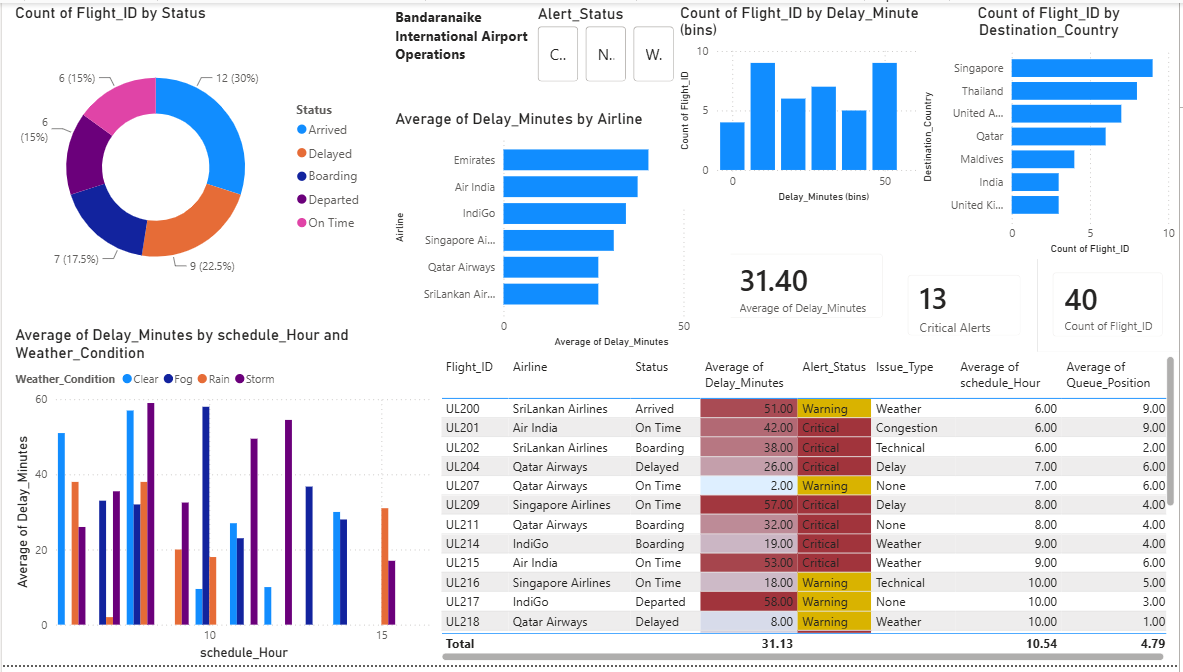

This screenshot's page, from the dashboard's own definition file:
{"tool":"powerbi","page":{"name":"Page 1","canvas":[1280,720],"ordinal":0},"visuals":[{"type":"donutChart","fields":{"Category":["BIA_CMB_Dataset.Status"],"Y":["CountNonNull(BIA_CMB_Dataset.Flight_ID)"]},"box":[9.4,0,393.5,338.3],"z":0},{"type":"cardVisual","fields":{"Data":["CountNonNull(BIA_CMB_Dataset.Flight_ID)"]},"box":[1125.3,275.9,154.9,104.7],"z":1000},{"type":"cardVisual","fields":{"Data":["Avg(BIA_CMB_Dataset.Delay_Minutes)"]},"box":[772,255.5,203.9,104.7],"z":2000},{"type":"cardVisual","fields":{"Data":["BIA_CMB_Dataset.Critical Alerts"]},"box":[967.7,278.6,157.7,100.6],"z":3000},{"type":"clusteredBarChart","fields":{"Category":["BIA_CMB_Dataset.Airline"],"Y":["Avg(BIA_CMB_Dataset.Delay_Minutes)"]},"box":[422.7,115.5,369.7,263.7],"z":4000},{"type":"columnChart","fields":{"Category":["BIA_CMB_Dataset.Delay_Minutes (bins)"],"Y":["CountNonNull(BIA_CMB_Dataset.Flight_ID)"]},"box":[732.6,0,281.3,221.5],"z":5000},{"type":"clusteredColumnChart","fields":{"Category":["BIA_CMB_Dataset.schedule_Hour"],"Y":["Avg(BIA_CMB_Dataset.Delay_Minutes)"],"Series":["BIA_CMB_Dataset.Weather_Condition"]},"box":[9.4,350.4,462.2,369.3],"z":6000},{"type":"tableEx","fields":{"Values":["BIA_CMB_Dataset.Flight_ID","BIA_CMB_Dataset.Airline","BIA_CMB_Dataset.Status","Avg(BIA_CMB_Dataset.Delay_Minutes)","BIA_CMB_Dataset.Alert_Status","BIA_CMB_Dataset.Issue_Type","Avg(BIA_CMB_Dataset.schedule_Hour)","Avg(BIA_CMB_Dataset.Queue_Position)"]},"box":[471.7,378.7,808.6,341],"z":7000},{"type":"clusteredBarChart","fields":{"Category":["BIA_CMB_Dataset.Destination_Country"],"Y":["CountNonNull(BIA_CMB_Dataset.Flight_ID)"]},"box":[996.2,0,284.1,278.6],"z":8000},{"type":"textbox","box":[422.7,0,154.9,91.1],"z":9000},{"type":"advancedSlicerVisual","fields":{"Values":["BIA_CMB_Dataset.Alert_Status"]},"box":[577.6,1.4,159,89.7],"z":10000}]}

Visuals, with their boxes in screenshot pixels (x1, y1, x2, y2), scaled from the page's 1280x720 canvas onto the 1183x672 screenshot:
donutChart - BIA_CMB_Dataset.Status x CountNonNull(BIA_CMB_Dataset.Flight_ID): <bbox>9, 0, 372, 316</bbox>
cardVisual - CountNonNull(BIA_CMB_Dataset.Flight_ID): <bbox>1040, 258, 1182, 355</bbox>
cardVisual - Avg(BIA_CMB_Dataset.Delay_Minutes): <bbox>713, 238, 902, 336</bbox>
cardVisual - BIA_CMB_Dataset.Critical Alerts: <bbox>894, 260, 1040, 354</bbox>
clusteredBarChart - BIA_CMB_Dataset.Airline x Avg(BIA_CMB_Dataset.Delay_Minutes): <bbox>391, 108, 732, 354</bbox>
columnChart - BIA_CMB_Dataset.Delay_Minutes (bins) x CountNonNull(BIA_CMB_Dataset.Flight_ID): <bbox>677, 0, 937, 207</bbox>
clusteredColumnChart - BIA_CMB_Dataset.schedule_Hour x Avg(BIA_CMB_Dataset.Delay_Minutes): <bbox>9, 327, 436, 671</bbox>
tableEx - BIA_CMB_Dataset.Flight_ID x BIA_CMB_Dataset.Airline: <bbox>436, 353, 1182, 671</bbox>
clusteredBarChart - BIA_CMB_Dataset.Destination_Country x CountNonNull(BIA_CMB_Dataset.Flight_ID): <bbox>921, 0, 1182, 260</bbox>
textbox: <bbox>391, 0, 534, 85</bbox>
advancedSlicerVisual - BIA_CMB_Dataset.Alert_Status: <bbox>534, 1, 681, 85</bbox>
